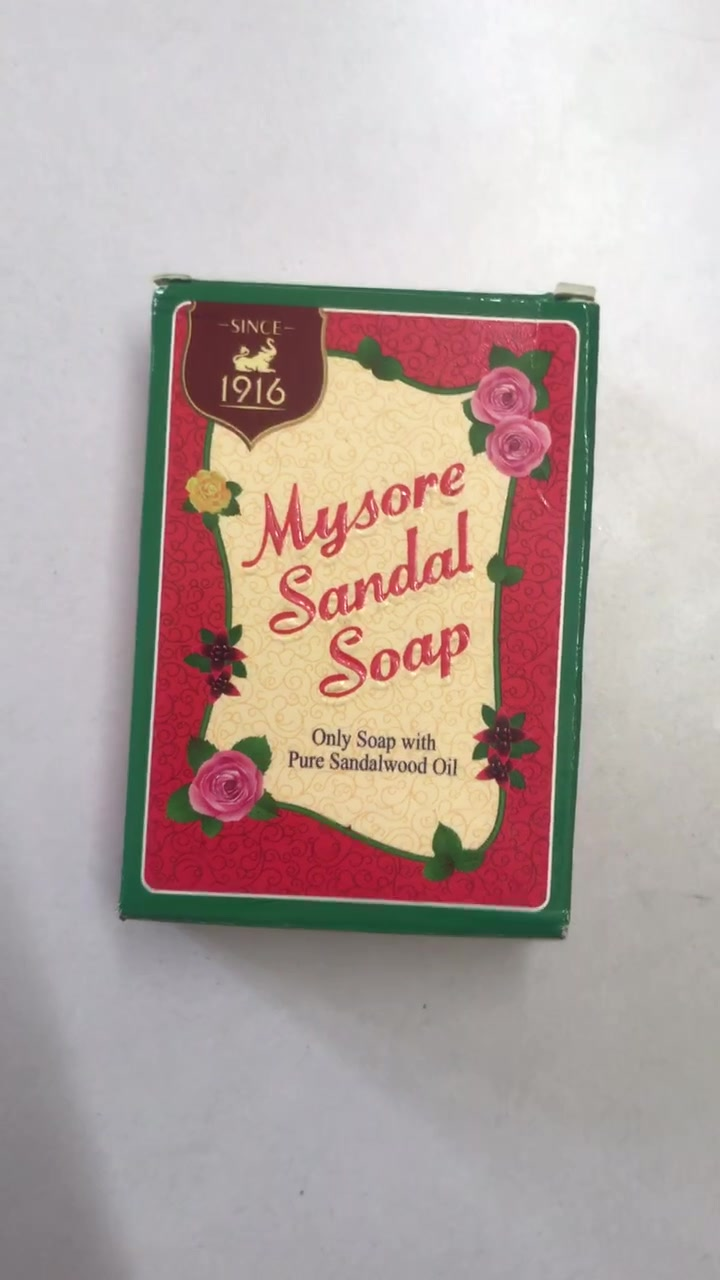mysore sandal soap: (128, 282, 580, 932)
